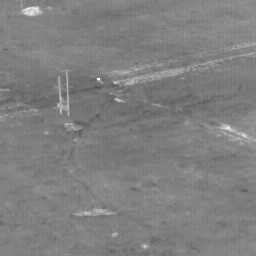aircraft: (98, 78, 100, 80)
